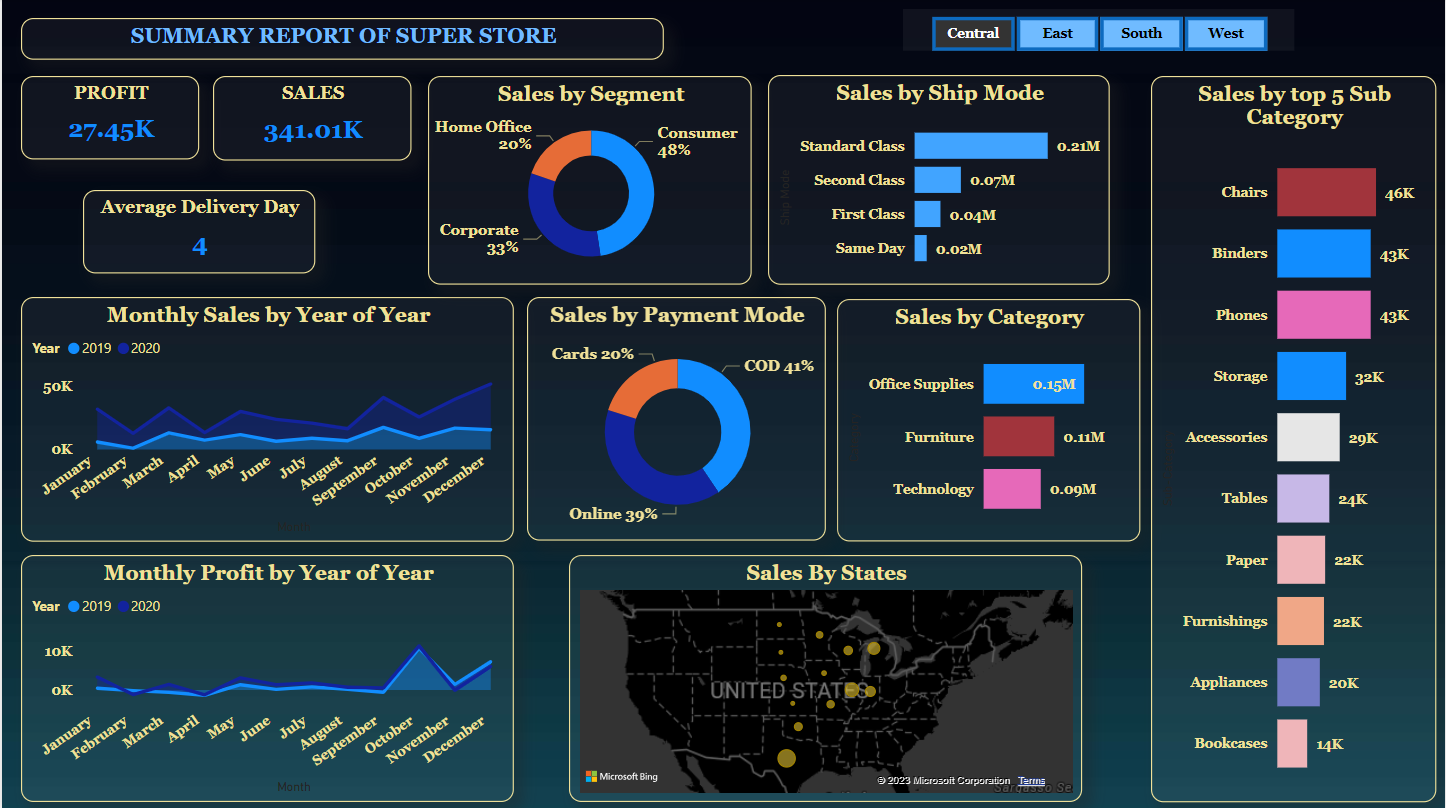

The dashboard page shown, as its layout file describes it:
{"tool":"powerbi","page":{"name":"Page 1","canvas":[1280,720],"ordinal":0},"visuals":[{"type":"clusteredBarChart","title":"Sales by Category","fields":{"Category":["SuperStore_Sales_Dataset.Category"],"Y":["Sum(SuperStore_Sales_Dataset.Sales)"]},"box":[740.4,266,268.7,214.6],"z":0},{"type":"clusteredBarChart","title":"Sales by top 5 Sub Category","fields":{"Y":["Sum(SuperStore_Sales_Dataset.Sales)"],"Category":["SuperStore_Sales_Dataset.Sub-Category"]},"box":[1018.8,68.3,252.7,643.7],"z":1000},{"type":"clusteredBarChart","title":"Sales by Ship Mode","fields":{"Y":["Sum(SuperStore_Sales_Dataset.Sales)"],"Category":["SuperStore_Sales_Dataset.Ship Mode"]},"box":[679.2,67.4,303.3,186.2],"z":2000},{"type":"stackedAreaChart","title":"Monthly Sales by Year of Year","fields":{"Y":["Sum(SuperStore_Sales_Dataset.Sales)"],"Series":["SuperStore_Sales_Dataset.Order Date.Variation.Date Hierarchy.Year"],"Category":["SuperStore_Sales_Dataset.Order Date.Variation.Date Hierarchy.Month"]},"box":[16.8,264.2,437.1,217.2],"z":3000},{"type":"stackedAreaChart","title":"Monthly Profit by Year of Year","fields":{"Series":["SuperStore_Sales_Dataset.Order Date.Variation.Date Hierarchy.Year"],"Category":["SuperStore_Sales_Dataset.Order Date.Variation.Date Hierarchy.Month"],"Y":["Sum(SuperStore_Sales_Dataset.Profit)"]},"box":[16.8,493,437.1,219],"z":4000},{"type":"map","title":"Sales By States","fields":{"Category":["SuperStore_Sales_Dataset.State"],"Size":["Sum(SuperStore_Sales_Dataset.Sales)"]},"box":[502.8,493,454.9,219],"z":5000},{"type":"donutChart","title":"Sales by Segment","fields":{"Category":["SuperStore_Sales_Dataset.Segment"],"Y":["Sum(SuperStore_Sales_Dataset.Sales)"]},"box":[377.7,68.3,287.3,185.3],"z":6000},{"type":"donutChart","title":"Sales by Payment Mode","fields":{"Y":["Sum(SuperStore_Sales_Dataset.Sales)"],"Category":["SuperStore_Sales_Dataset.Payment Mode"]},"box":[465.5,264.2,265.1,216.4],"z":7000},{"type":"slicer","fields":{"Values":["SuperStore_Sales_Dataset.Region"]},"box":[798.9,8.9,346.7,37.2],"z":8000},{"type":"textbox","title":"SUMMARY REPORT OF SUPER STORE","box":[16.8,16.8,570.1,37.2],"z":9000},{"type":"card","title":"PROFIT","fields":{"Values":["Sum(SuperStore_Sales_Dataset.Profit)"]},"box":[16.8,68.3,157.8,73.6],"z":10000},{"type":"card","title":"SALES","fields":{"Values":["Sum(SuperStore_Sales_Dataset.Sales)"]},"box":[187.1,68.3,175.6,75.4],"z":11000},{"type":"card","title":"Average Delivery Day","fields":{"Values":["Avg(SuperStore_Sales_Dataset.AvgDelivery)"]},"box":[71.8,169.4,205.7,73.6],"z":12000}]}

Visuals, with their boxes in screenshot pixels (x1, y1, x2, y2), scaled from the page's 1280x720 canvas onto the 1446x808 screenshot:
"Sales by Category" clusteredBarChart: box(836, 299, 1140, 539)
"Sales by top 5 Sub Category" clusteredBarChart: box(1151, 77, 1436, 799)
"Sales by Ship Mode" clusteredBarChart: box(767, 76, 1110, 285)
"Monthly Sales by Year of Year" stackedAreaChart: box(19, 296, 513, 540)
"Monthly Profit by Year of Year" stackedAreaChart: box(19, 553, 513, 799)
"Sales By States" map: box(568, 553, 1082, 799)
"Sales by Segment" donutChart: box(427, 77, 751, 285)
"Sales by Payment Mode" donutChart: box(526, 296, 825, 539)
slicer - SuperStore_Sales_Dataset.Region: box(903, 10, 1294, 52)
"SUMMARY REPORT OF SUPER STORE" textbox: box(19, 19, 663, 61)
"PROFIT" card: box(19, 77, 197, 159)
"SALES" card: box(211, 77, 410, 161)
"Average Delivery Day" card: box(81, 190, 313, 273)
